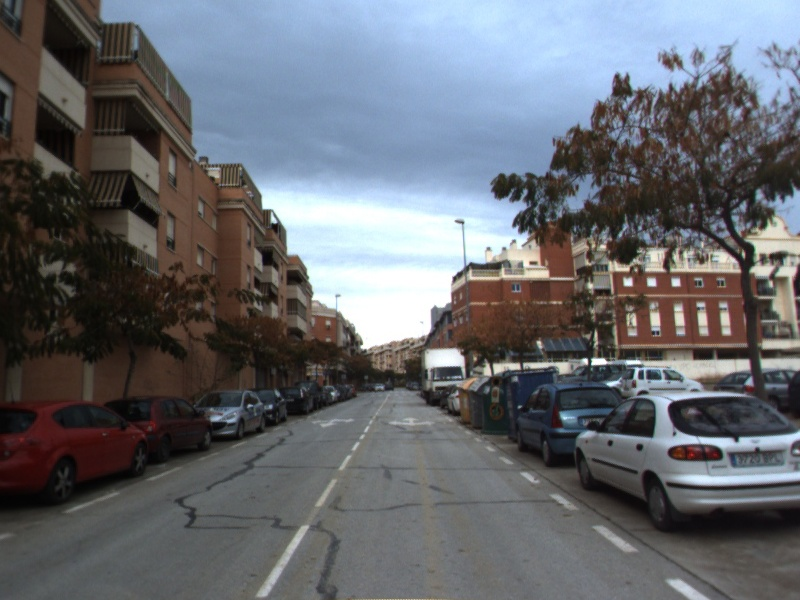STRAIGHT_LEFT_RIGHT: (386, 415, 438, 428)
